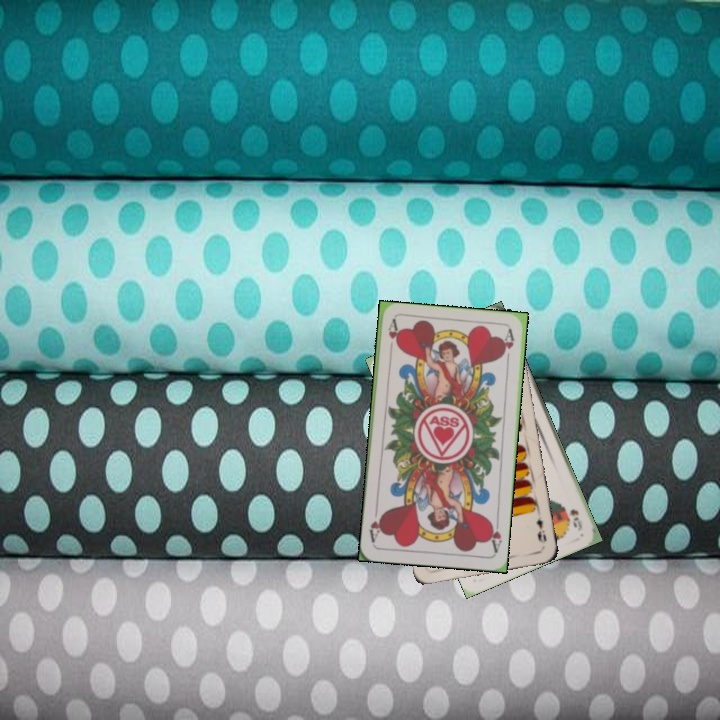E9: (532, 513, 549, 546)
HA: (484, 514, 504, 555), (384, 317, 400, 357)
SO: (566, 505, 585, 533)
